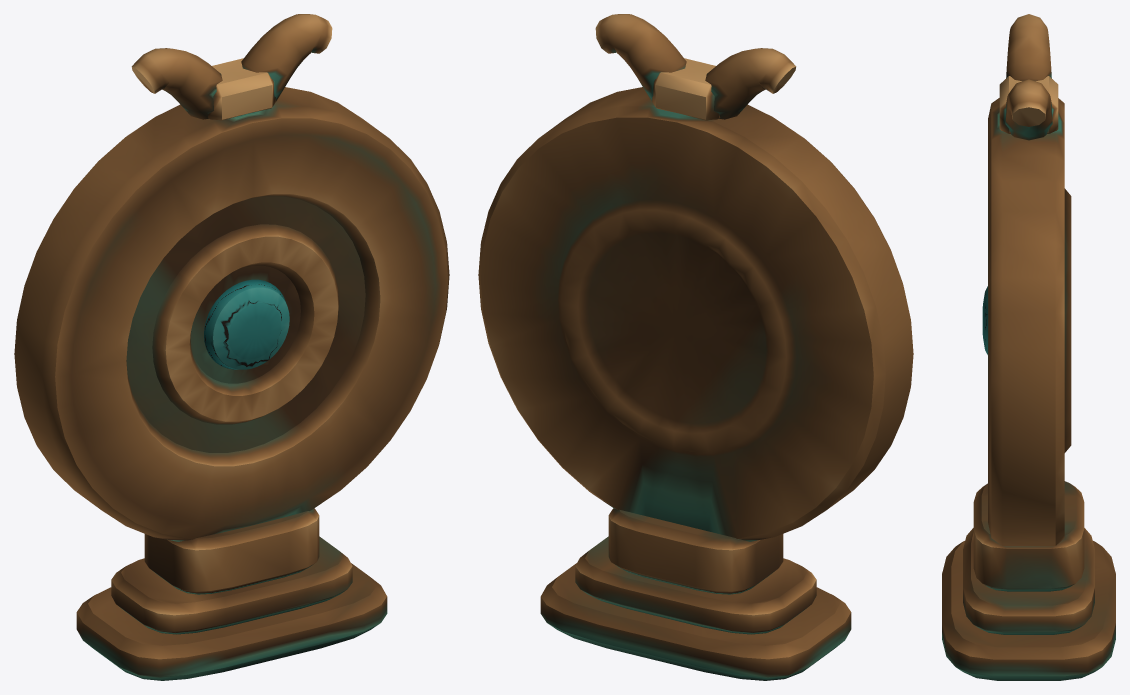
File: bronze_amulet_disc.fbx
The picture shows the model from 3 angles, left to right: view 1: azimuth 30°, elevation 25°; view 2: azimuth 150°, elevation 25°; view 3: azimuth 270°, elevation 25°; orthographic projection. The views are drawn at different scales.
Visible parts, largest first — view 1: bronze_amulet_disc_Body; view 2: bronze_amulet_disc_Body; view 3: bronze_amulet_disc_Body.
Part boxes in pixels (x1=…): bronze_amulet_disc_Body: x1=14, y1=14, x2=449, y2=680; bronze_amulet_disc_Body: x1=478, y1=14, x2=913, y2=680; bronze_amulet_disc_Body: x1=942, y1=14, x2=1115, y2=680.
Bounding box in the file's own units: 0.17 × 0.2385 × 0.0656.
1 material, 1 textured.
